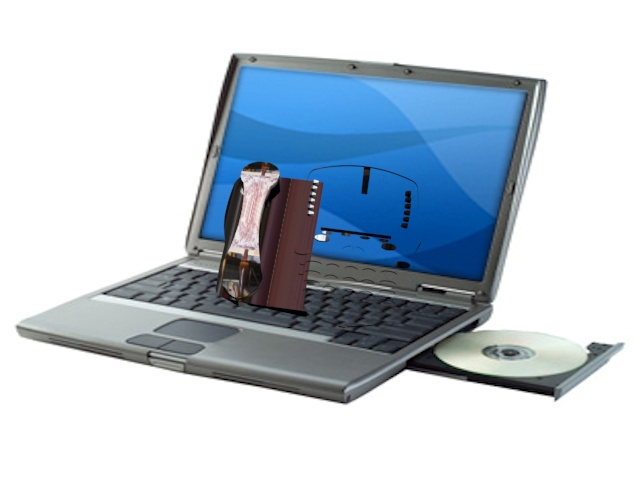phone: (209, 161, 424, 336)
